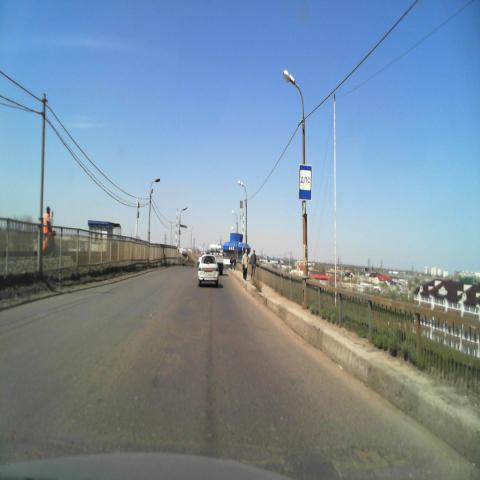7_12: (298, 164, 312, 201)
